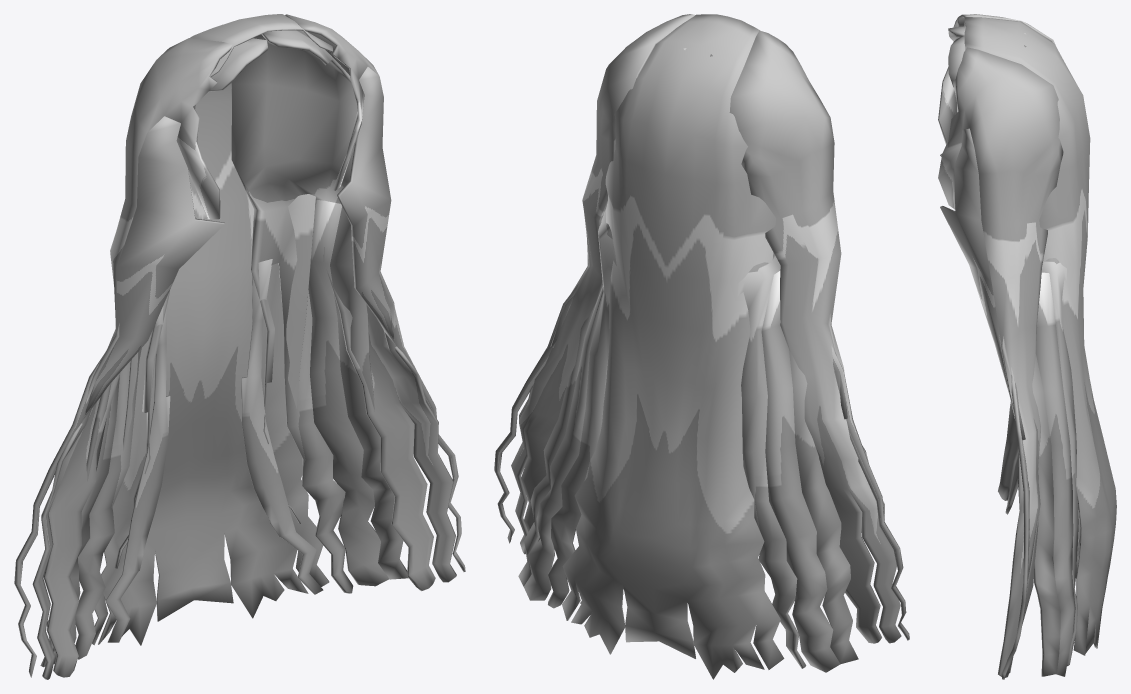
File: HairBack17.fbx
The picture shows the model from 3 angles, left to right: view 1: azimuth 30°, elevation 25°; view 2: azimuth 150°, elevation 25°; view 3: azimuth 270°, elevation 25°; orthographic projection. The views are drawn at different scales.
Visible parts, largest first — view 1: BackHair17_mesh; view 2: BackHair17_mesh; view 3: BackHair17_mesh.
Part boxes in pixels (x1,y1,x2,y2): BackHair17_mesh: [14, 14, 465, 679]; BackHair17_mesh: [494, 14, 909, 679]; BackHair17_mesh: [938, 14, 1116, 679].
Bounding box in the file's own units: 50.23 × 70.93 × 19.23.
Materials: 2 (2 with a texture image).
